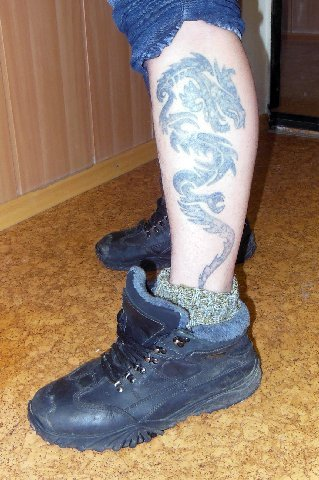tatu6_drakon: (150, 53, 250, 300)
